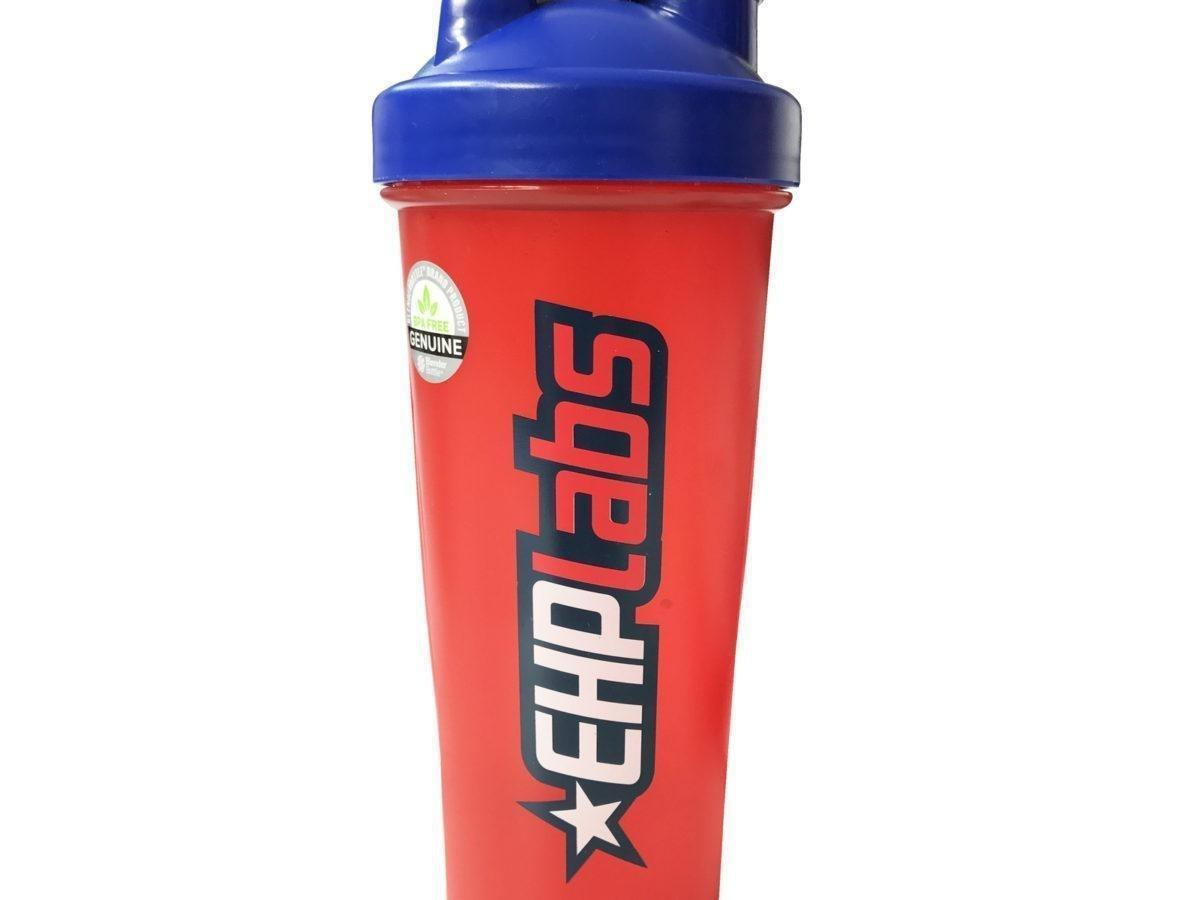gym bottle: (364, 0, 810, 895)
